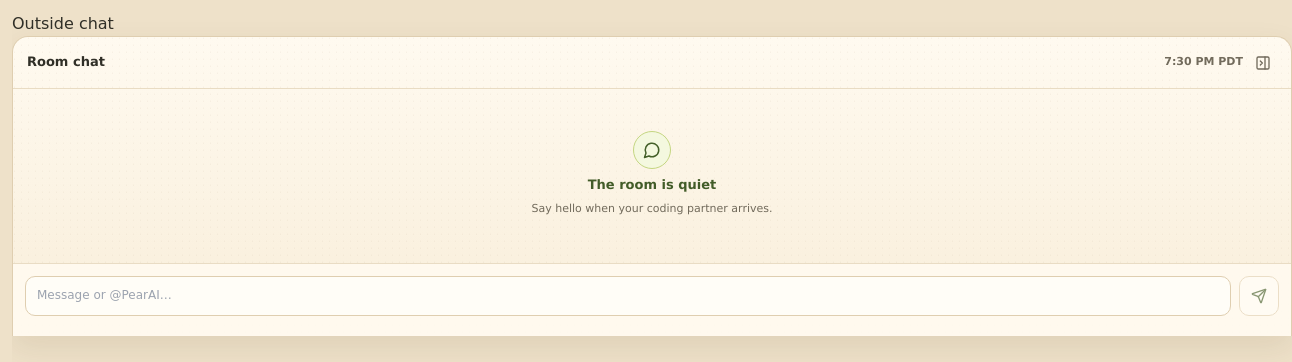
Test: ChatPanel mention menu › opens after @ and filters room members as the query changes
In the dropdown named "Message room": {"x": 628, "y": 296} [25, 276, 1231, 316], type "@"
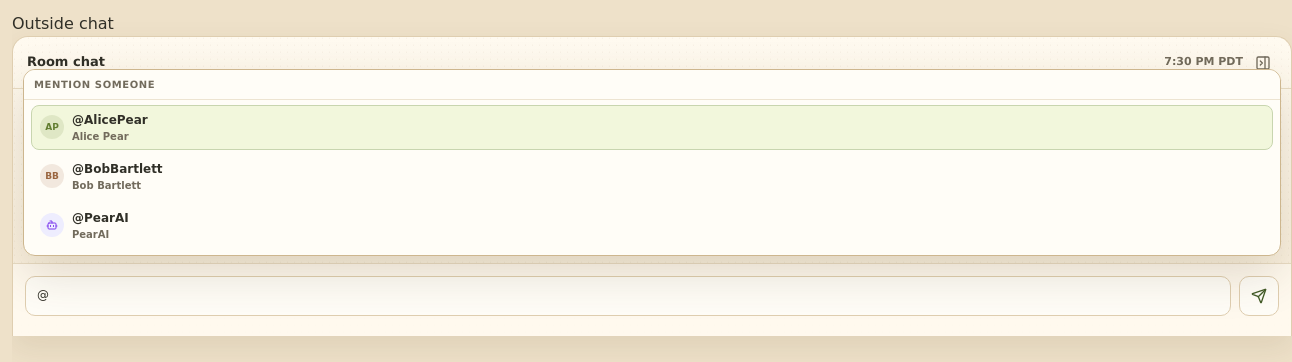
Now the dropdown named "Message room" is expanded
Now the list named "Mention a room member" is shown, box [23, 69, 1281, 256]
Now the number of options is 3, box [31, 105, 1273, 150]; [31, 154, 1273, 199]; [31, 203, 1273, 248]
Replace the text in the dropdown named "Message room" with "@bo": {"x": 628, "y": 296} [25, 276, 1231, 316]
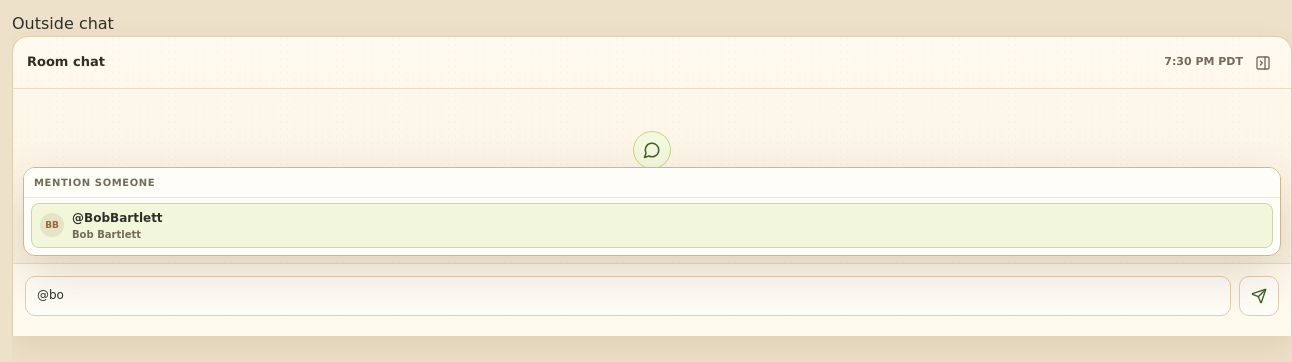
Now the option "BB @BobBartlett Bob Bartlett" is shown, box [31, 203, 1273, 248]
Now the option "@AlicePear" is gone
